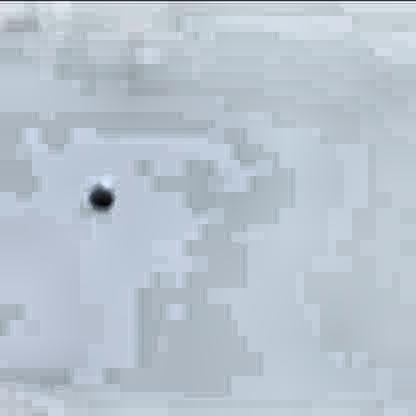golfball: (85, 175, 113, 206)
